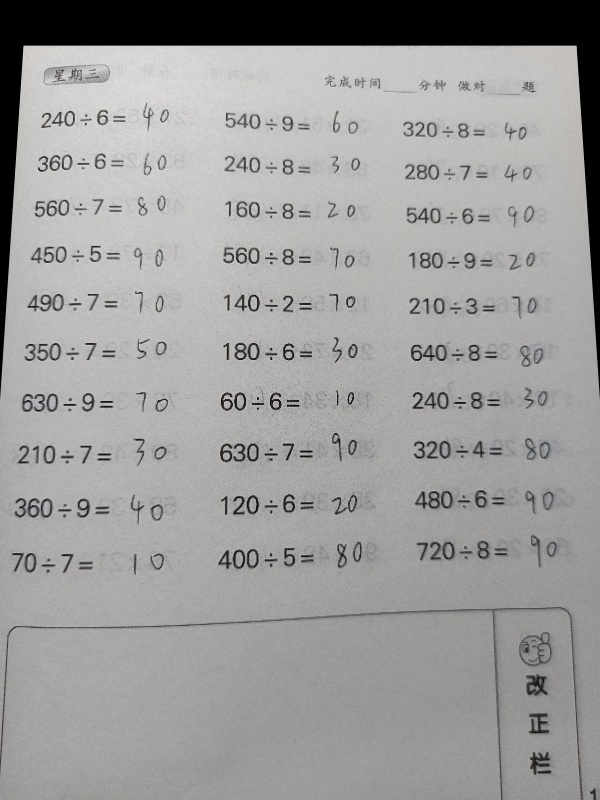equation: (5, 490, 191, 527), (3, 544, 191, 580), (207, 539, 395, 575), (407, 532, 594, 568), (212, 486, 397, 521), (405, 482, 590, 517), (210, 435, 394, 470), (10, 437, 193, 472), (405, 432, 588, 467), (211, 384, 393, 418), (13, 385, 194, 419), (404, 384, 585, 418), (16, 335, 196, 368), (213, 334, 392, 367), (214, 287, 391, 319), (20, 286, 197, 318), (213, 239, 389, 271), (22, 238, 197, 270), (401, 337, 581, 368), (398, 201, 572, 232), (215, 195, 389, 226), (400, 291, 578, 321), (400, 245, 576, 275), (26, 191, 199, 221), (396, 157, 568, 187), (216, 151, 388, 181), (28, 146, 200, 176), (395, 115, 565, 145), (216, 107, 386, 137), (32, 102, 202, 132)
